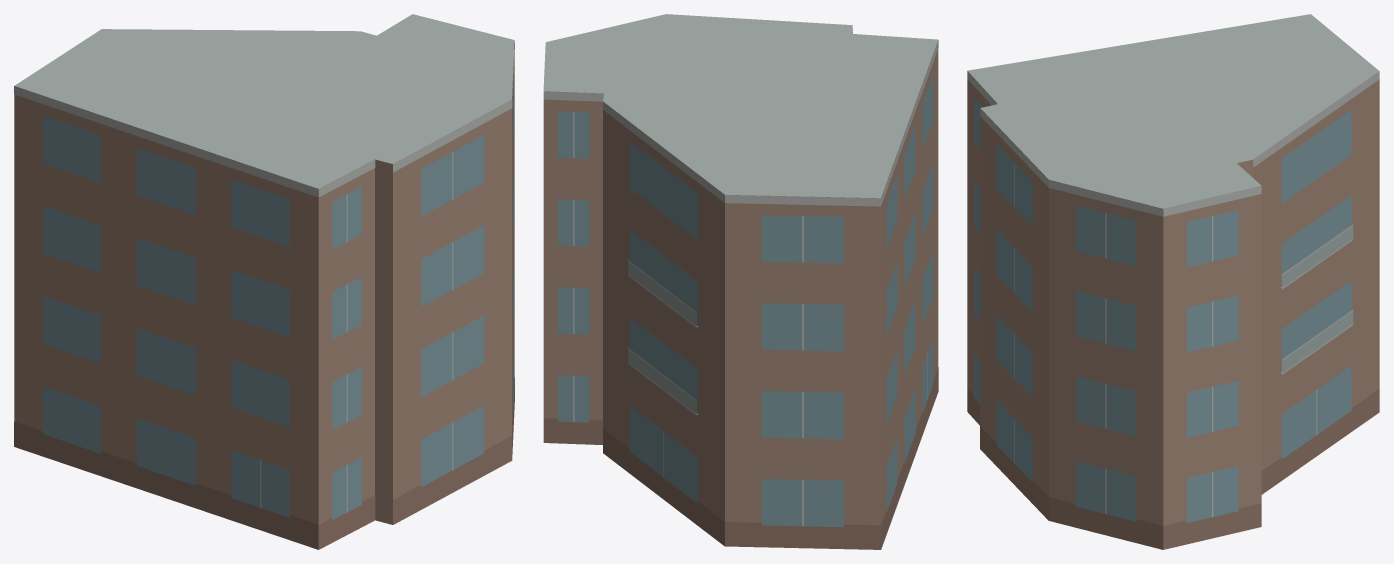
The model's file is survey-upis-32534651.glb.
3 views of the same model, side by side, from view 1: azimuth 30°, elevation 25°; view 2: azimuth 150°, elevation 25°; view 3: azimuth 270°, elevation 25° (orthographic). The views are drawn at different scales.
Parts seen in each view (by area): view 1: survey-upis-32534651.tmp; view 2: survey-upis-32534651.tmp; view 3: survey-upis-32534651.tmp.
Part boxes in pixels (x1,y1,x2,y2): survey-upis-32534651.tmp: (14,14,514,549); survey-upis-32534651.tmp: (543,14,938,549); survey-upis-32534651.tmp: (967,14,1379,549).
Size of the model in its own units: 12.62 by 10.3 by 11.29.
